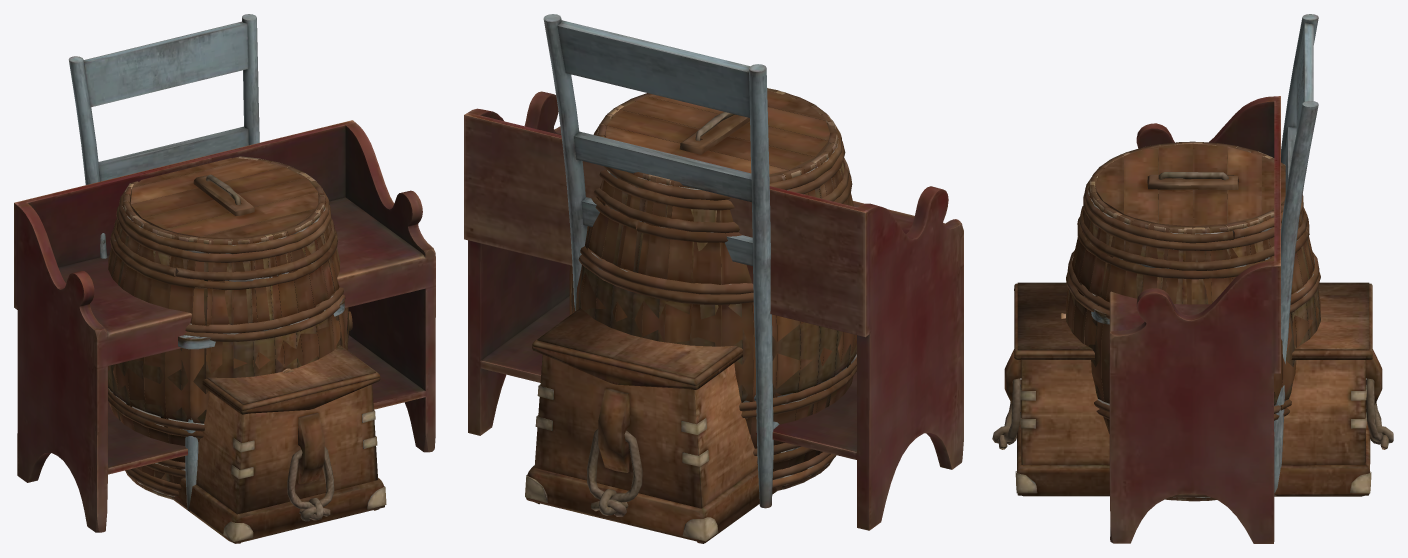
Rendered from props.glb.
The picture shows the model from 3 angles, left to right: view 1: azimuth 30°, elevation 25°; view 2: azimuth 150°, elevation 25°; view 3: azimuth 270°, elevation 25°; orthographic projection. The views are drawn at different scales.
Parts seen in each view (by area): view 1: painted_wooden_bench, wooden_barrels_01_barrel01, wooden_crate_02_crate, painted_wooden_chair_02, wine_barrel_01, wooden_crate_02_lid; view 2: painted_wooden_bench, wooden_barrels_01_barrel01, wooden_crate_02_crate, painted_wooden_chair_02, wine_barrel_01, wooden_crate_02_lid; view 3: painted_wooden_bench, wooden_barrels_01_barrel01, wooden_crate_02_crate, wooden_crate_02_lid, painted_wooden_chair_02, wine_barrel_01.
Boxes of the visible parts, x1,y1,x2,y2 form: painted_wooden_bench: [14, 120, 435, 532]; wooden_barrels_01_barrel01: [108, 156, 352, 497]; wooden_crate_02_crate: [174, 384, 386, 543]; painted_wooden_chair_02: [68, 14, 344, 511]; wine_barrel_01: [108, 156, 349, 499]; wooden_crate_02_lid: [202, 345, 380, 414]; painted_wooden_bench: [464, 91, 963, 530]; wooden_barrels_01_barrel01: [569, 88, 856, 490]; wooden_crate_02_crate: [525, 354, 776, 543]; painted_wooden_chair_02: [543, 14, 779, 508]; wine_barrel_01: [570, 88, 856, 489]; wooden_crate_02_lid: [532, 308, 742, 389]; painted_wooden_bench: [1109, 96, 1280, 543]; wooden_barrels_01_barrel01: [1066, 141, 1320, 501]; wooden_crate_02_crate: [992, 349, 1393, 496]; wooden_crate_02_lid: [1014, 282, 1372, 359]; painted_wooden_chair_02: [1091, 14, 1318, 495]; wine_barrel_01: [1066, 142, 1320, 500].
Bounding box in the file's own units: 1.16 × 1.27 × 1.16.
Materials: 10 (10 with a texture image).
